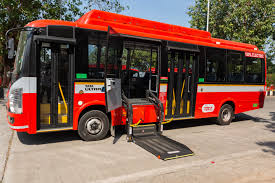bus: (4, 8, 266, 161)
